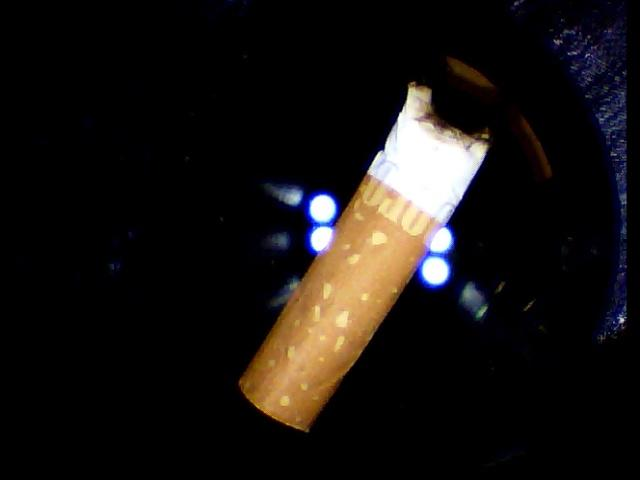megot: (210, 74, 500, 433)
